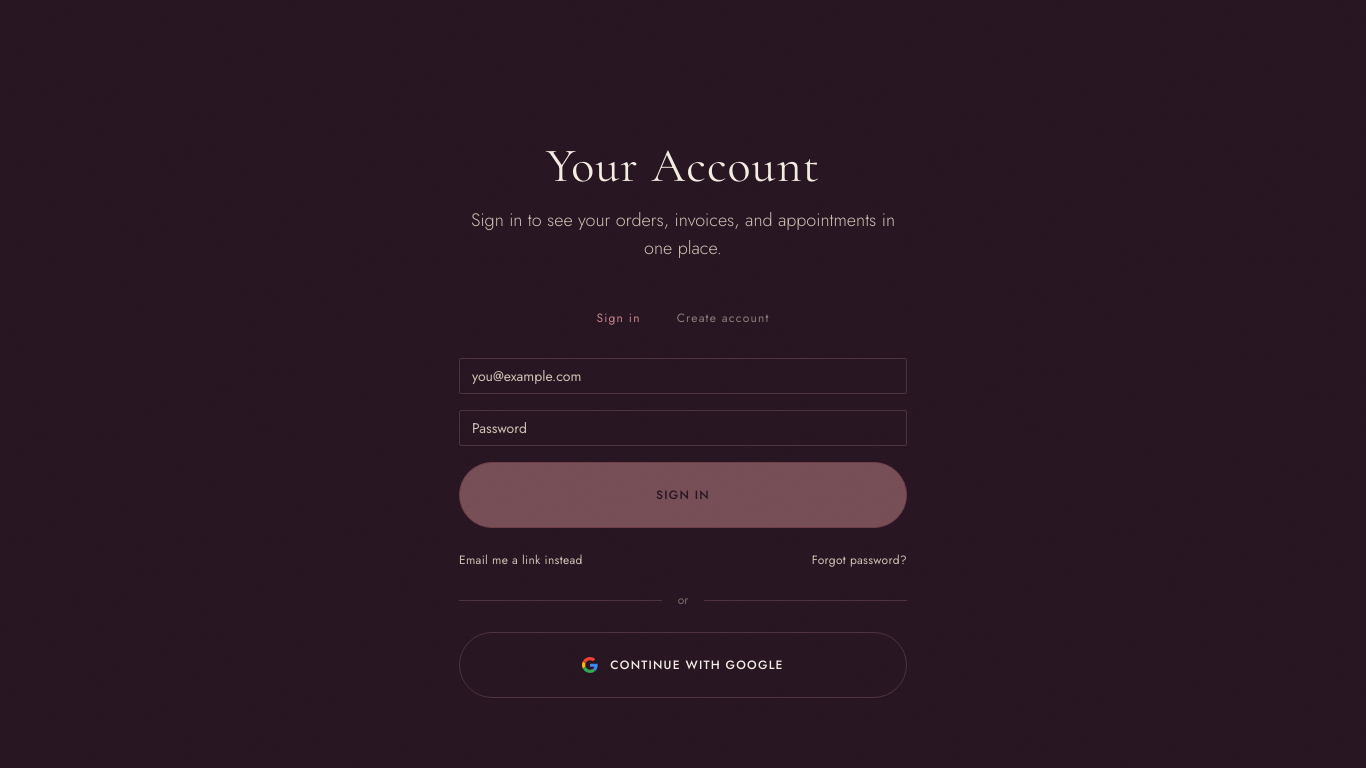
Test case: Account login › creates an account and shows the verify-your-email notice
Click the button with test id "tab-signup" at (723, 318), box 661,302 -> 786,334
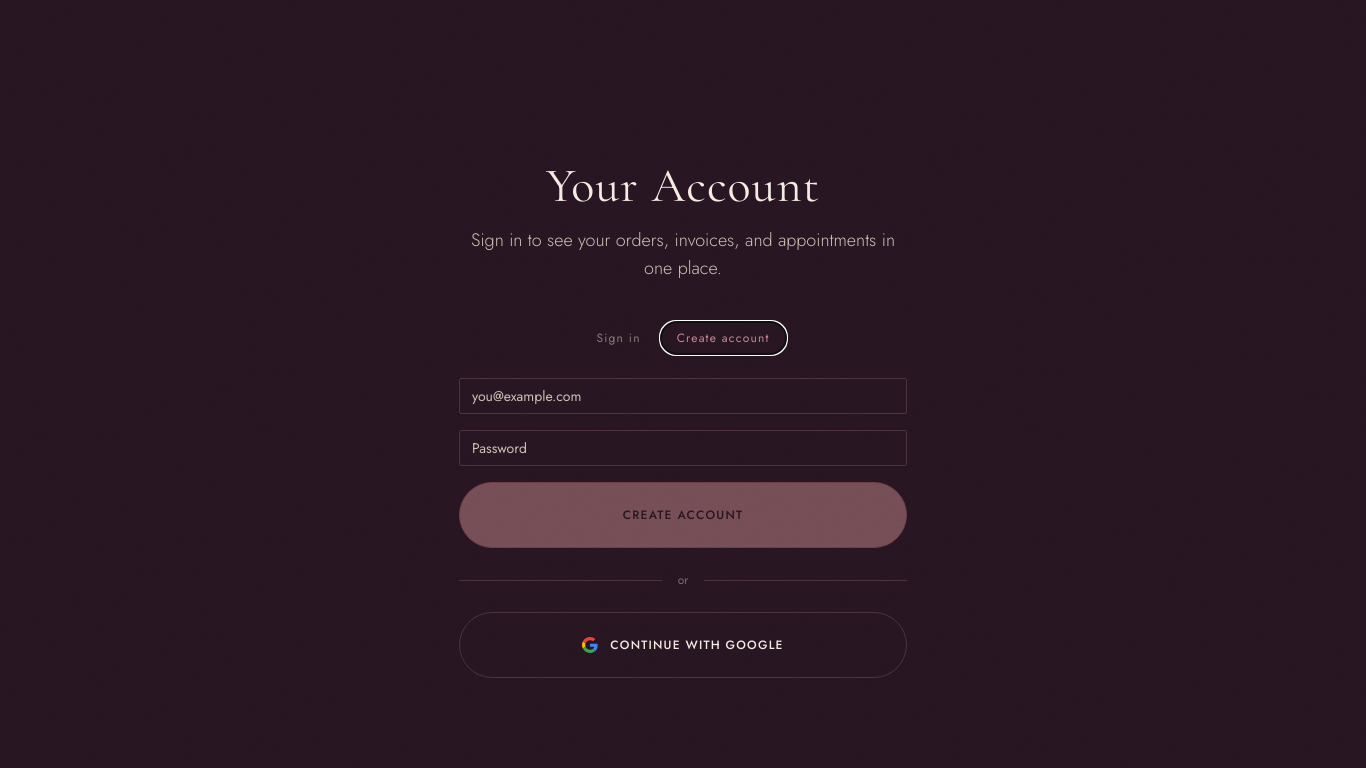
Type "new@example.com" into the field with test id "input-email" at (683, 396), box 459,378 -> 907,414
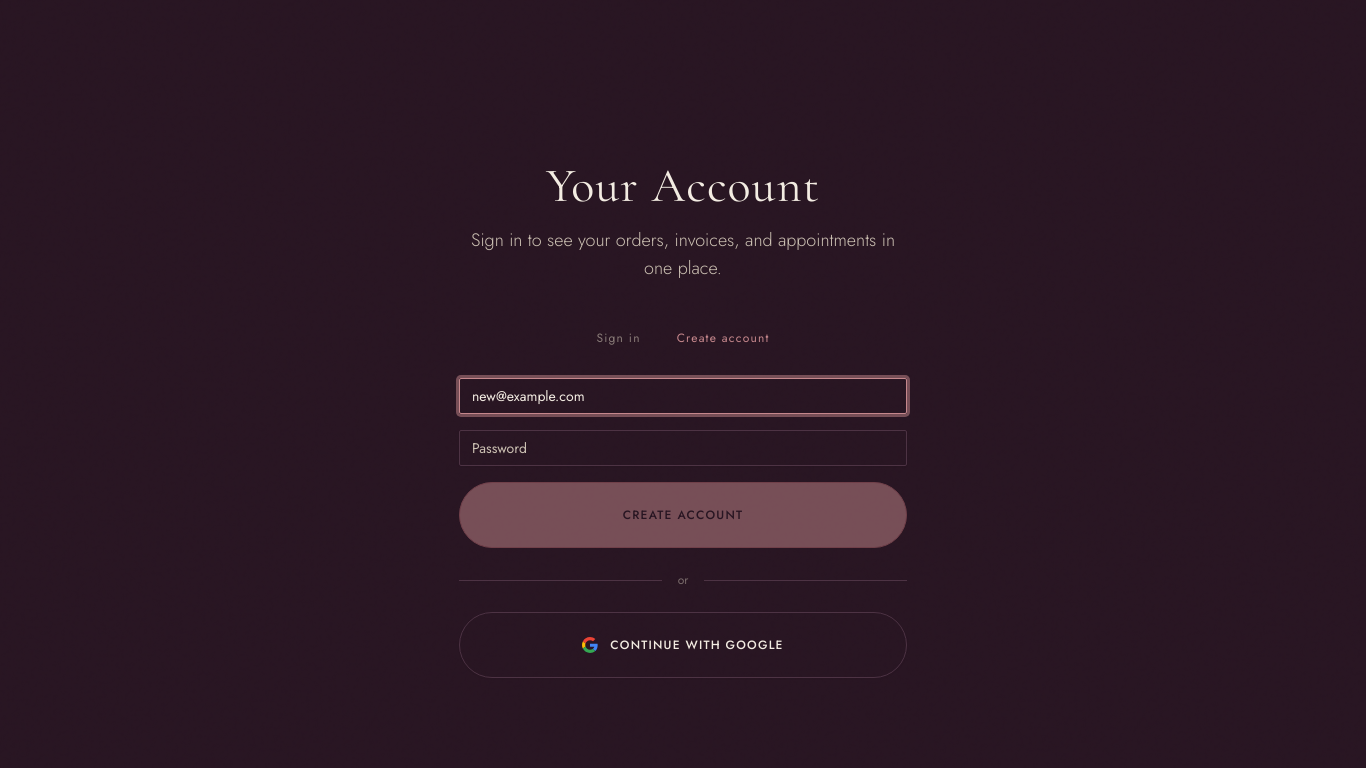
Type "hunter2000" into the password field with test id "input-password" at (683, 448), box 459,430 -> 907,466
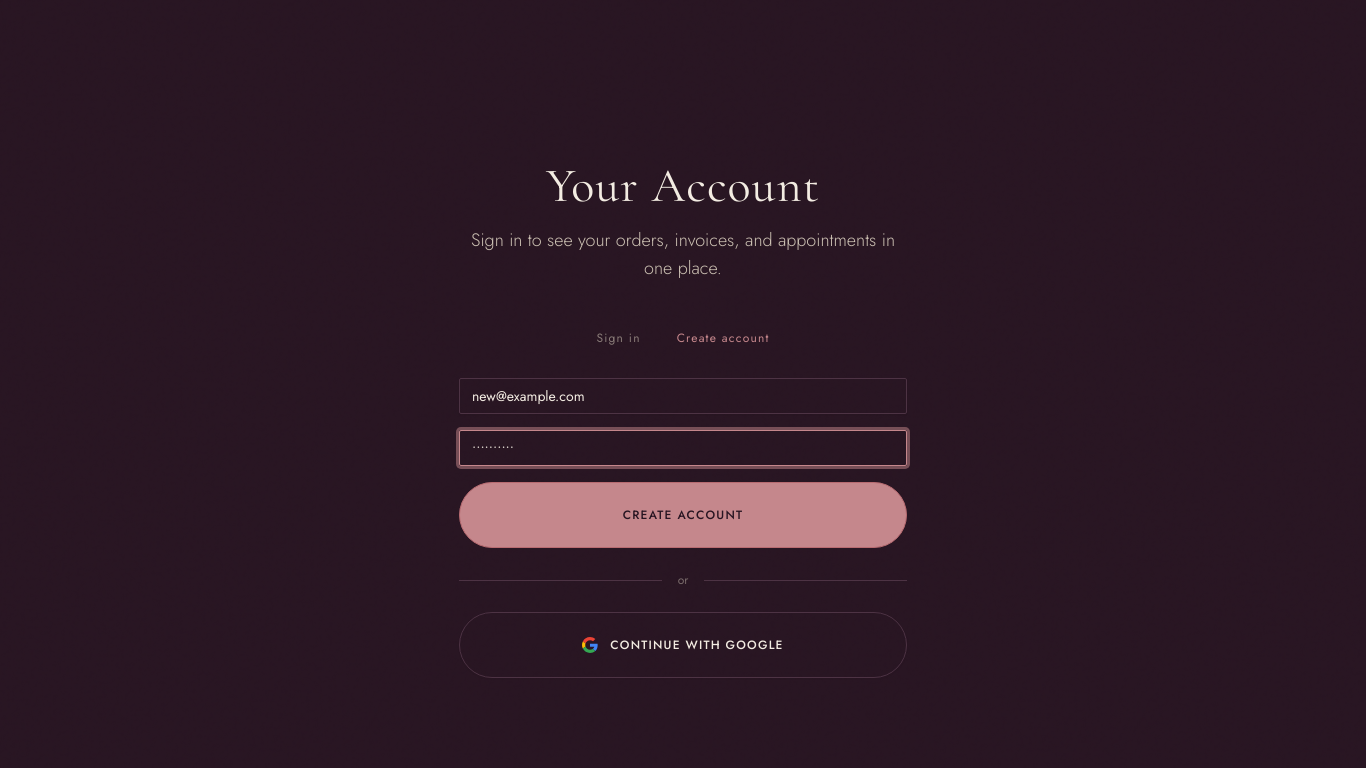
Click the button with test id "button-submit" at (683, 515), box 459,482 -> 907,548
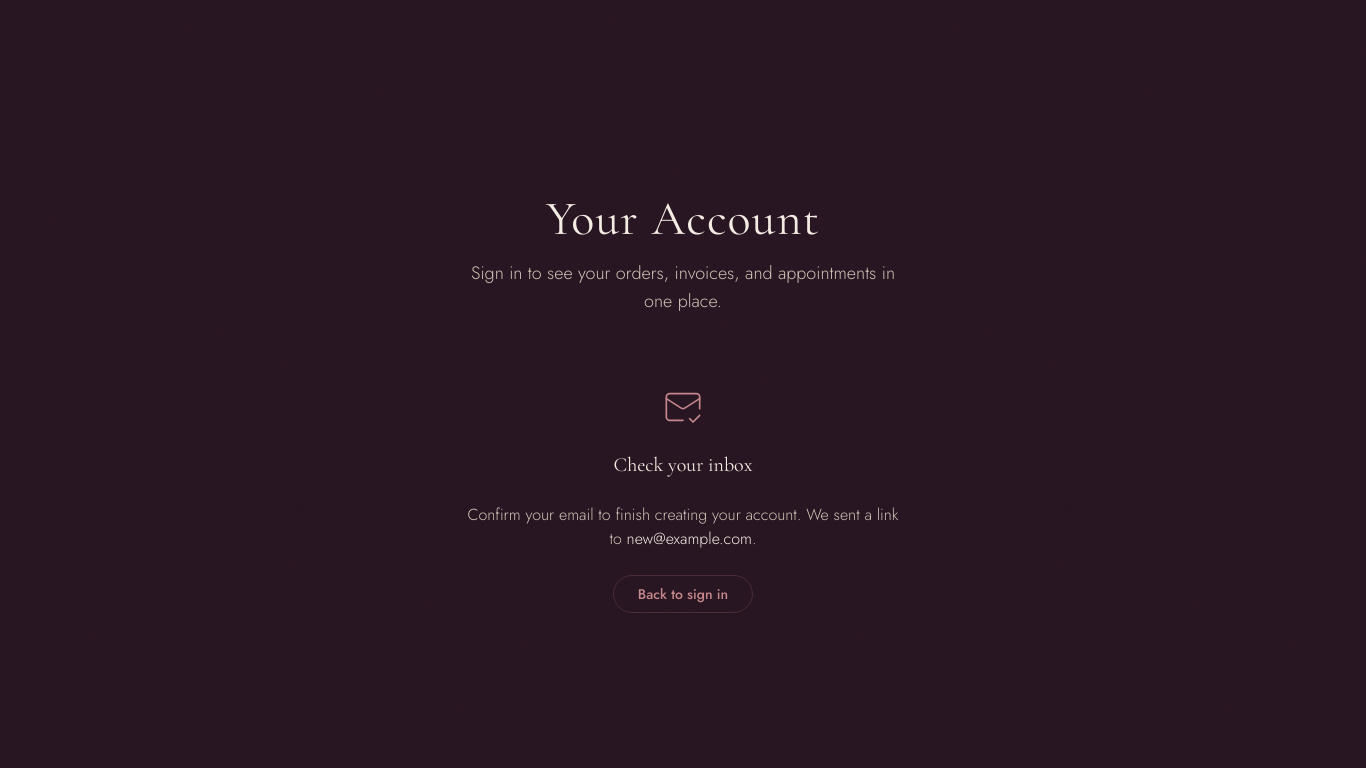
Now the element with test id "login-notice" is shown, box 459,355 -> 907,645
